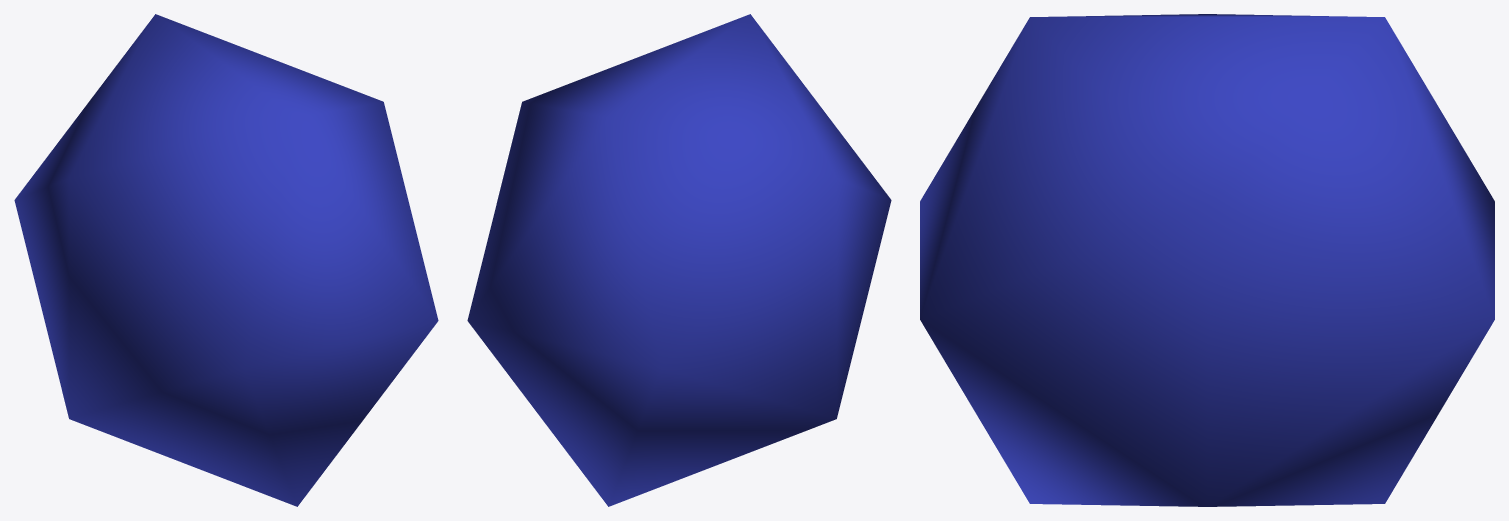
File: poliedro.obj
The picture shows the model from 3 angles, left to right: view 1: azimuth 30°, elevation 25°; view 2: azimuth 150°, elevation 25°; view 3: azimuth 270°, elevation 25°; orthographic projection. The views are drawn at different scales.
Parts seen in each view (by area): view 1: 000_Polyhedron; view 2: 000_Polyhedron; view 3: 000_Polyhedron.
Boxes of the visible parts, x1=… form: 000_Polyhedron: x1=14, y1=14, x2=438, y2=506; 000_Polyhedron: x1=467, y1=14, x2=891, y2=506; 000_Polyhedron: x1=920, y1=14, x2=1494, y2=506.
Bounding box in the file's own units: 3.69 × 4.36 × 4.67.
